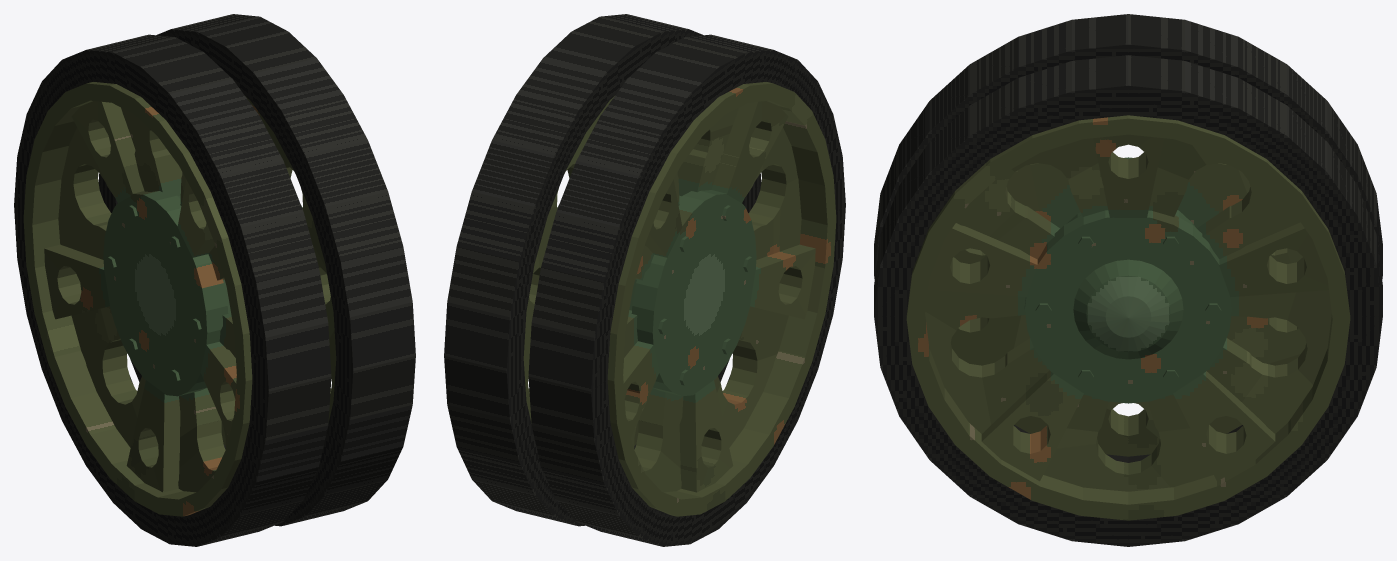
Rendered from wheel.glb.
The picture shows the model from 3 angles, left to right: view 1: azimuth 30°, elevation 25°; view 2: azimuth 150°, elevation 25°; view 3: azimuth 270°, elevation 25°; orthographic projection.
Visible parts, largest first — view 1: tire_in, tire_out, rim_in, hub_in, disc_in, ribs_in, disc_out; view 2: tire_in, tire_out, rim_in, hub_in, disc_in, ribs_in, disc_out; view 3: tire_out, disc_out, hub_out, rim_out, ribs_out, tire_in, disc_in.
Boxes of the visible parts, left/top/right/bottom form: tire_in: left=14, top=34, right=331, bottom=546; tire_out: left=98, top=14, right=415, bottom=526; rim_in: left=23, top=82, right=252, bottom=516; hub_in: left=103, top=191, right=228, bottom=396; disc_in: left=58, top=108, right=235, bottom=492; ribs_in: left=44, top=101, right=236, bottom=492; disc_out: left=221, top=95, right=336, bottom=445; tire_in: left=528, top=34, right=845, bottom=546; tire_out: left=444, top=14, right=761, bottom=526; rim_in: left=607, top=82, right=836, bottom=516; hub_in: left=631, top=190, right=756, bottom=396; disc_in: left=624, top=108, right=801, bottom=492; ribs_in: left=623, top=101, right=815, bottom=492; disc_out: left=523, top=95, right=638, bottom=445; tire_out: left=874, top=55, right=1382, bottom=546; disc_out: left=925, top=138, right=1331, bottom=491; hub_out: left=1024, top=210, right=1232, bottom=403; rim_out: left=906, top=115, right=1350, bottom=520; ribs_out: left=928, top=134, right=1328, bottom=481; tire_in: left=874, top=14, right=1382, bottom=462; disc_in: left=950, top=163, right=1306, bottom=456.
Size of the model in its own units: 0.295 by 0.81 by 0.81.
Materials: 1 (1 with a texture image).
